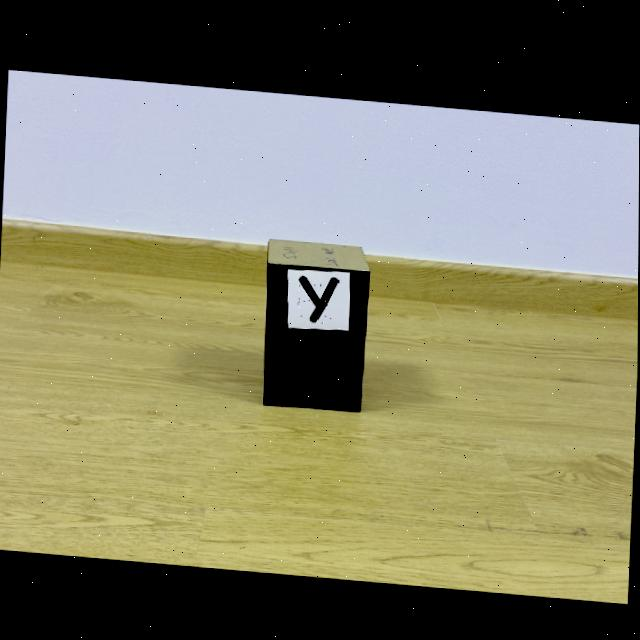Y: (299, 272, 339, 319)
